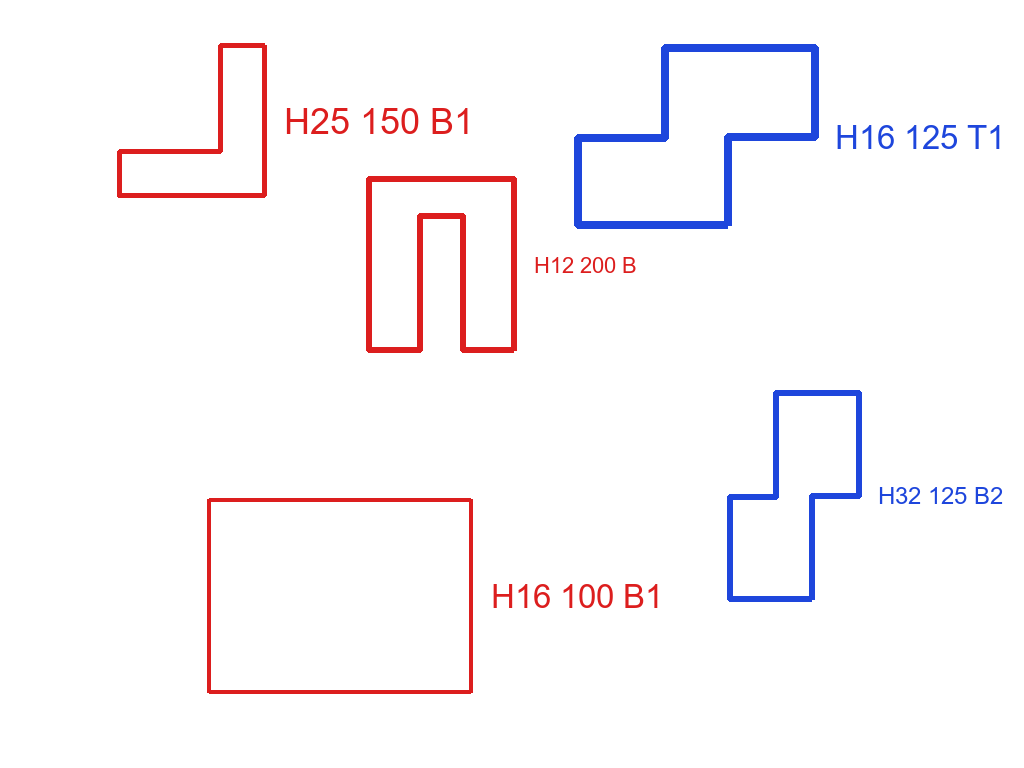shape: (205, 495, 475, 697), (573, 42, 821, 231), (725, 387, 863, 604), (364, 174, 519, 356), (115, 41, 269, 200)
text: (282, 106, 476, 136), (489, 582, 665, 610), (833, 123, 1007, 151), (876, 485, 1005, 506), (532, 255, 639, 275)
